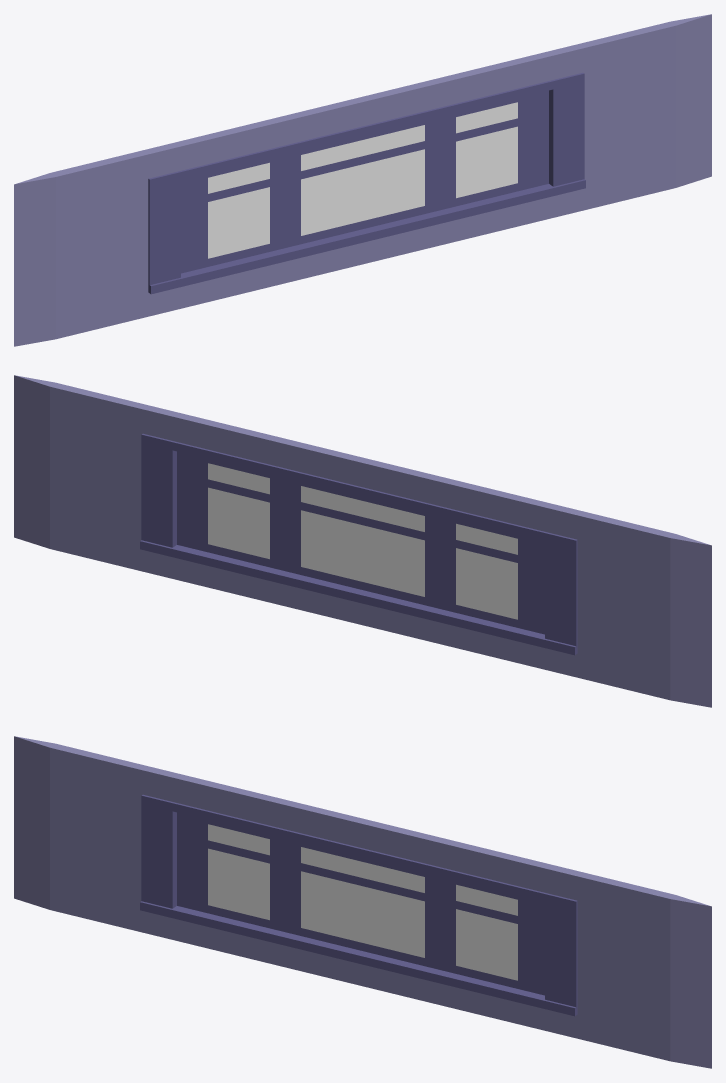
Rendered from BackgroundWallWindow.fbx.
3 renders of one model, top to bottom at view 1: azimuth 30°, elevation 25°; view 2: azimuth 150°, elevation 25°; view 3: azimuth 330°, elevation 25°, orthographic.
Parts seen in each view (by area): view 1: mergedBlocks; view 2: mergedBlocks; view 3: mergedBlocks.
Part boxes in pixels (<box>): mergedBlocks: <box>14,14,711,346</box>; mergedBlocks: <box>14,375,711,707</box>; mergedBlocks: <box>14,736,711,1068</box>.
Bounding box in the file's own units: 450 × 100 × 12.25.
